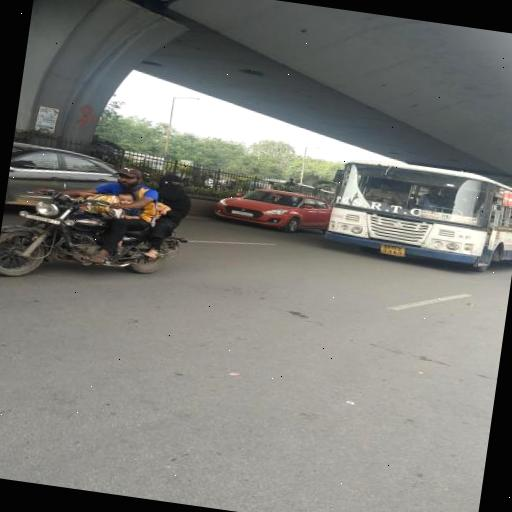no helmet: (102, 154, 151, 210)
triple riding: (0, 150, 199, 298)
